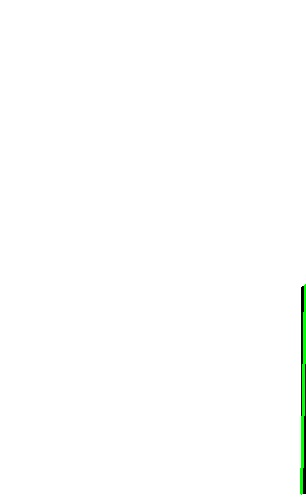line_segment: (300, 285, 306, 494)
